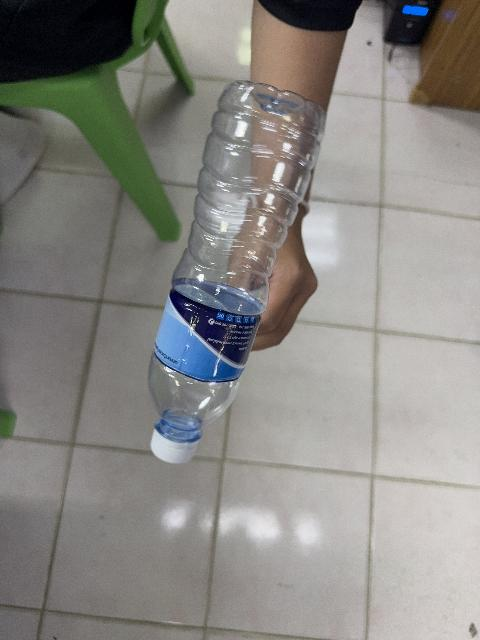bottle: (148, 82, 323, 462)
